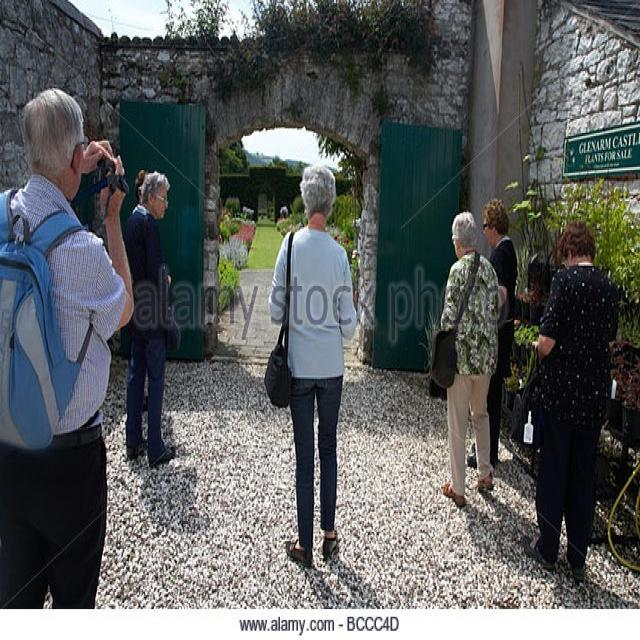body: (0, 85, 135, 611), (260, 160, 361, 570), (521, 218, 621, 580), (426, 207, 501, 512), (116, 168, 179, 472), (466, 196, 519, 470), (132, 167, 175, 420), (240, 202, 257, 220), (279, 204, 288, 218)
